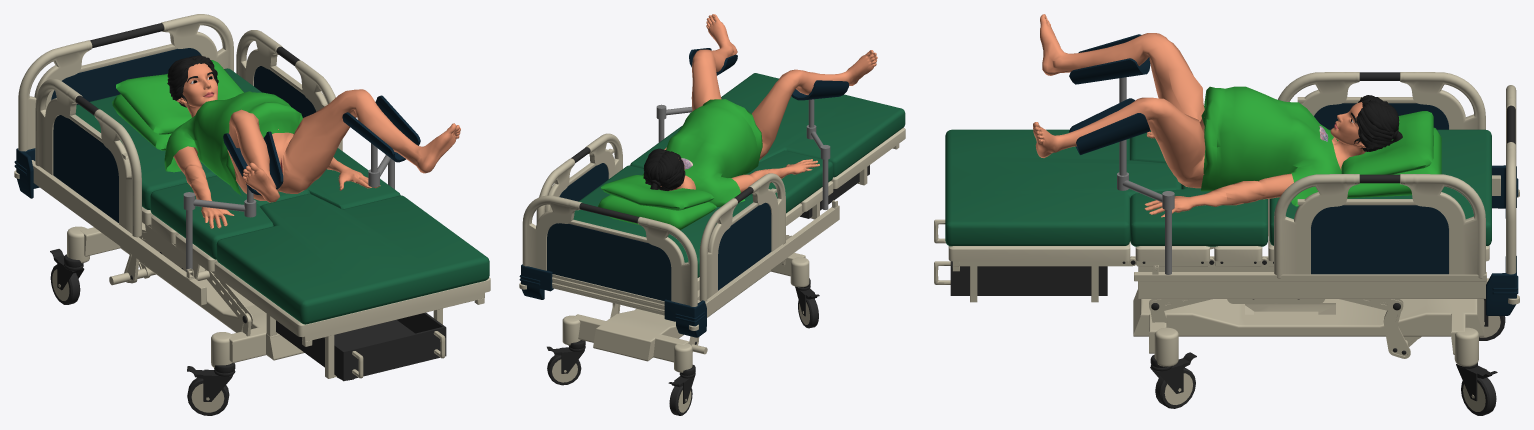
The model's file is Verlos_bed_pregnancy.fbx.
The picture shows the model from 3 angles, left to right: view 1: azimuth 30°, elevation 25°; view 2: azimuth 150°, elevation 25°; view 3: azimuth 270°, elevation 25°; orthographic projection. The views are drawn at different scales.
Visible parts, largest first — view 1: verlos_bed_pregnancy:verlos_bed, verlos_bed_pregnancy:verlos_bed_part_2, verlos_bed_pregnancy:ibu; view 2: verlos_bed_pregnancy:verlos_bed, verlos_bed_pregnancy:ibu, verlos_bed_pregnancy:verlos_bed_part_2; view 3: verlos_bed_pregnancy:verlos_bed, verlos_bed_pregnancy:verlos_bed_part_2, verlos_bed_pregnancy:ibu.
Boxes of the visible parts, left/top/right/bottom form: verlos_bed_pregnancy:verlos_bed: left=14, top=14, right=420, bottom=415; verlos_bed_pregnancy:verlos_bed_part_2: left=214, top=194, right=490, bottom=381; verlos_bed_pregnancy:ibu: left=164, top=55, right=460, bottom=228; verlos_bed_pregnancy:verlos_bed: left=519, top=48, right=849, bottom=415; verlos_bed_pregnancy:ibu: left=642, top=14, right=877, bottom=206; verlos_bed_pregnancy:verlos_bed_part_2: left=721, top=73, right=905, bottom=219; verlos_bed_pregnancy:verlos_bed: left=1069, top=34, right=1519, bottom=415; verlos_bed_pregnancy:verlos_bed_part_2: left=934, top=129, right=1181, bottom=302; verlos_bed_pregnancy:ibu: left=1033, top=14, right=1402, bottom=217.
Size of the model in its own units: 103 by 135 by 228.
Materials: 20 (1 with a texture image).
